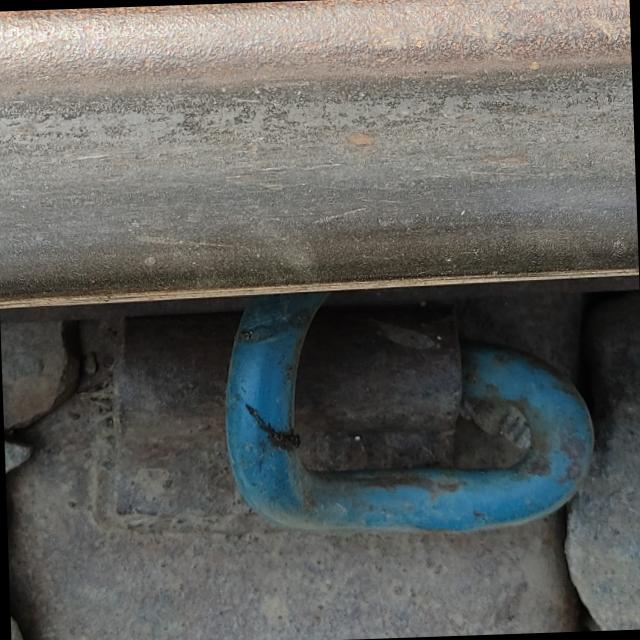track_bolt: (212, 282, 606, 548)
